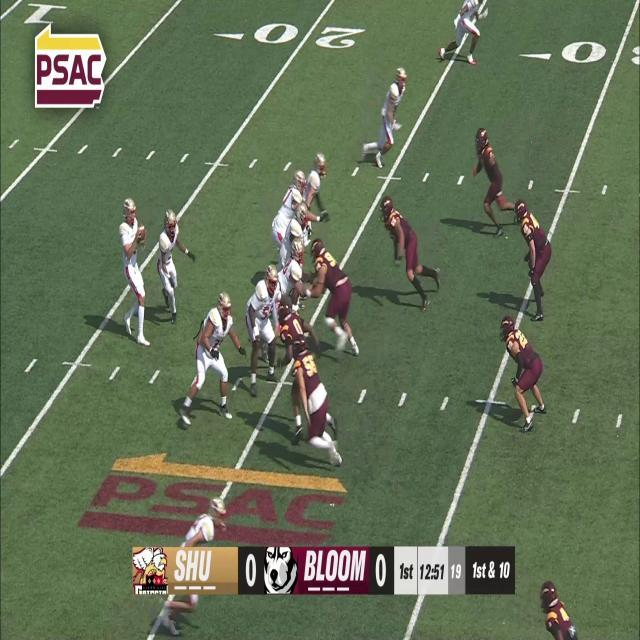football: (137, 224, 148, 248)
